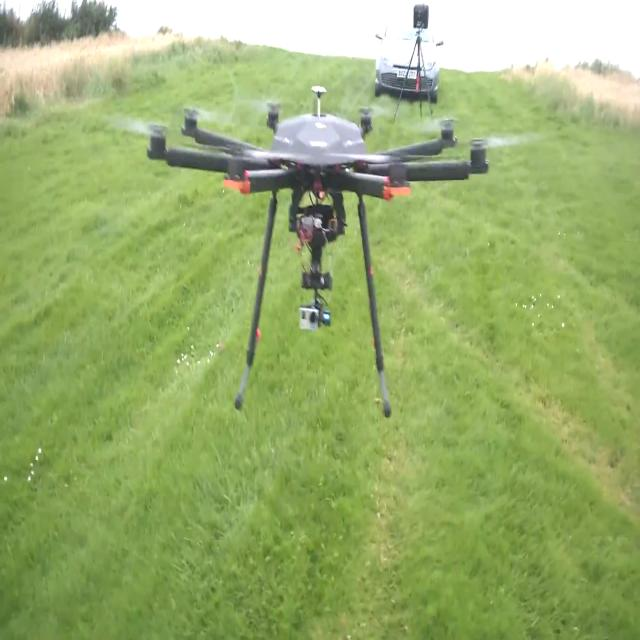drone: (141, 27, 486, 507)
